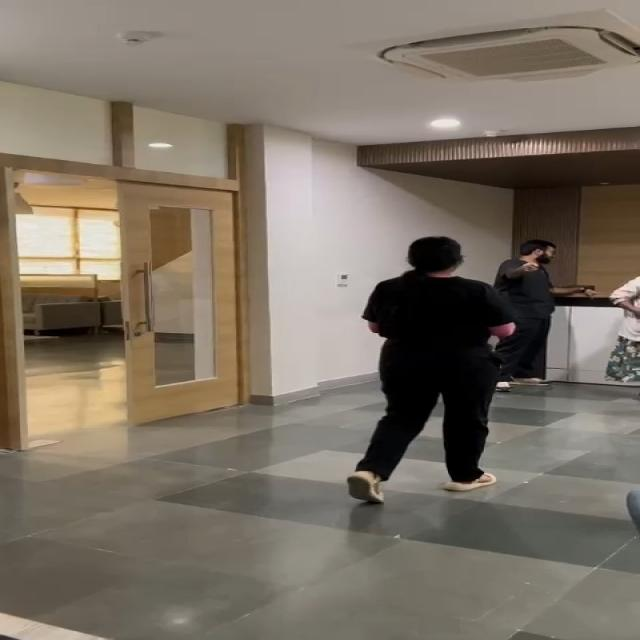door: (113, 180, 253, 418)
furniture: (16, 270, 114, 338)
moving_object: (358, 231, 503, 502), (491, 227, 550, 386)
wall: (6, 499, 640, 640), (270, 140, 640, 242), (251, 230, 358, 393), (515, 394, 640, 509), (219, 408, 349, 503), (24, 343, 123, 462)
